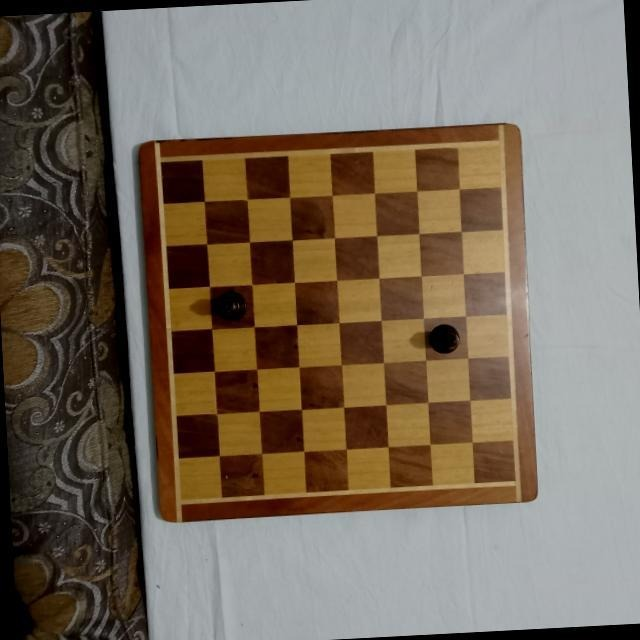black-bishop: (213, 288, 247, 324), (427, 321, 461, 355)
